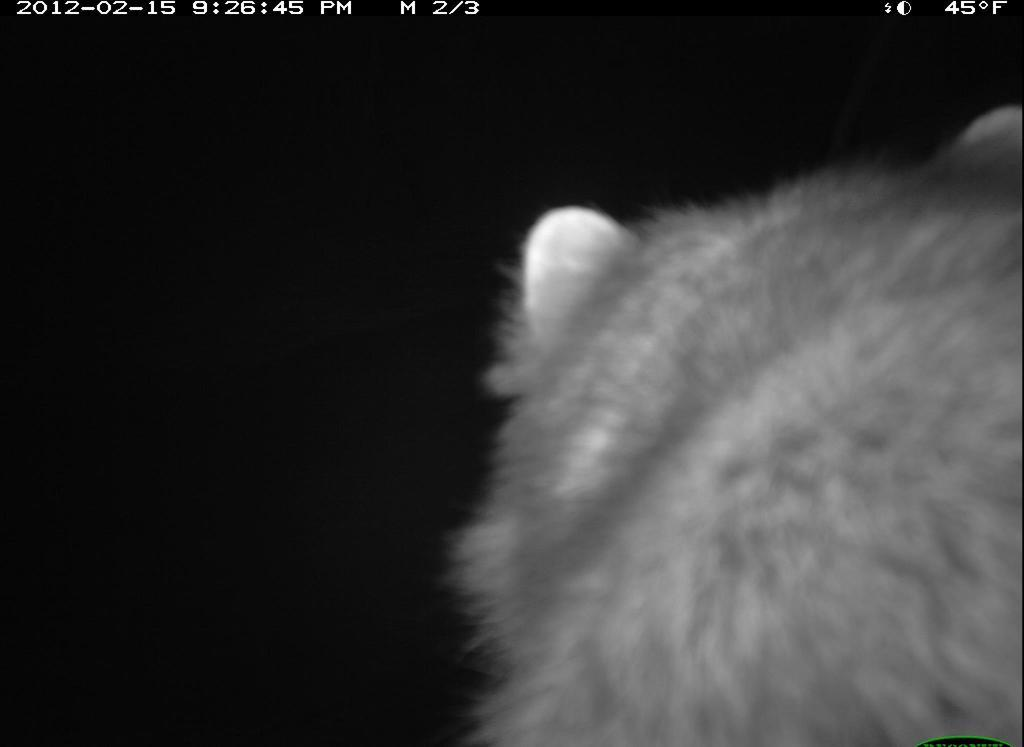raccoon: (418, 91, 1024, 747)
